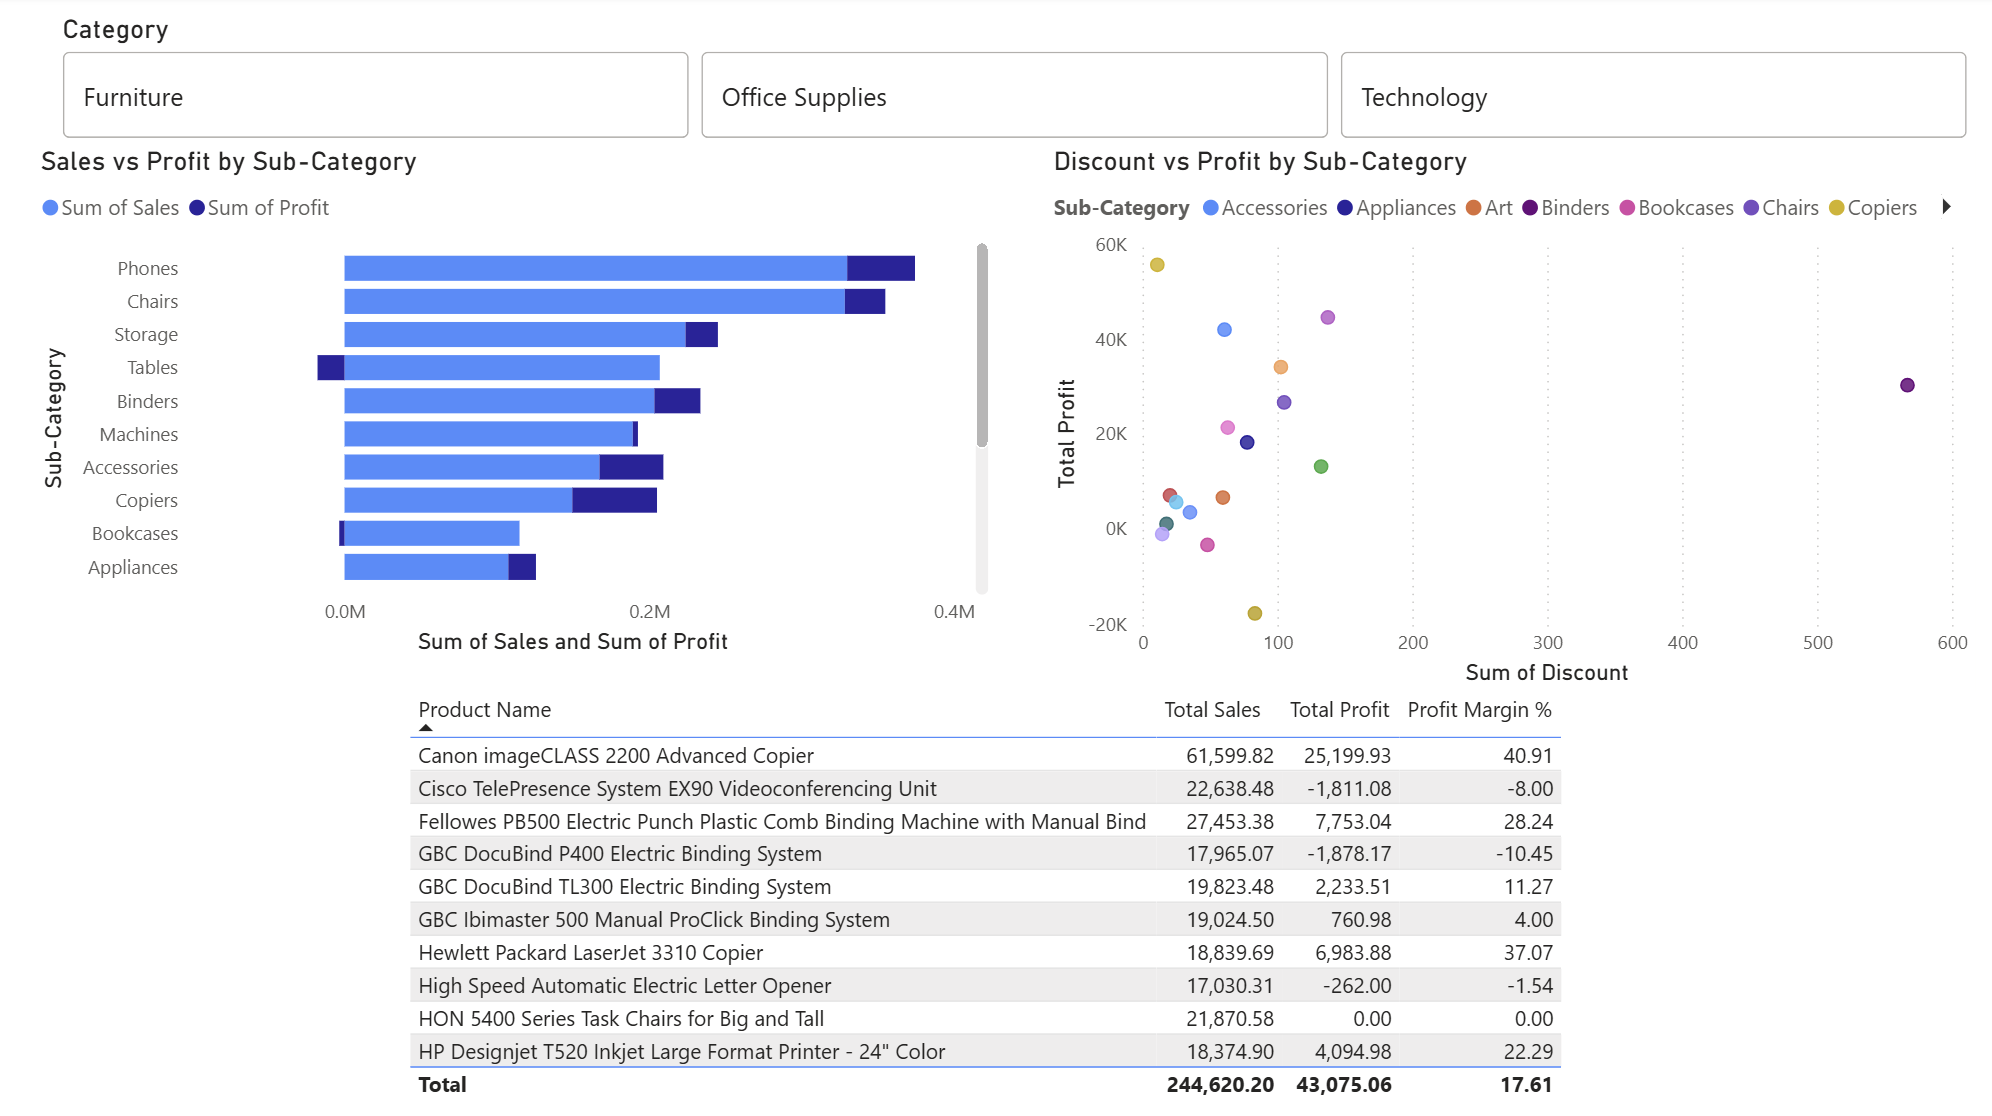

Layout of this report page (visuals, bound fields, positions):
{"tool":"powerbi","page":{"name":"Product & Margin Analysis","canvas":[1280,720],"ordinal":1},"visuals":[{"type":"barChart","title":"Sales vs Profit by Sub-Category","fields":{"Y":["Sum(Orders.Sales)","Sum(Orders.Profit)"],"Category":["Orders.Sub-Category"]},"box":[26,96.5,614,327.7],"z":0},{"type":"scatterChart","title":"Discount vs Profit by Sub-Category","fields":{"X":["Sum(Orders.Discount)"],"Y":["Orders.Total Profit"],"Series":["Orders.Sub-Category"]},"box":[670.6,96.5,592.5,347.6],"z":1000},{"type":"tableEx","fields":{"Values":["Orders.Product Name","Orders.Total Sales","Orders.Total Profit","Orders.Profit Margin %"]},"box":[260.3,439.4,759.4,280.2],"z":2000},{"type":"advancedSlicerVisual","fields":{"Values":["Orders.Category"]},"box":[39.8,12.2,1223.3,84.2],"z":3000}]}

Visuals, with their boxes in screenshot pixels (x1, y1, x2, y2), scaled from the page's 1280x720 canvas onto the 1992x1116 screenshot:
"Sales vs Profit by Sub-Category" barChart: BBox(40, 150, 996, 658)
"Discount vs Profit by Sub-Category" scatterChart: BBox(1044, 150, 1966, 688)
tableEx - Orders.Product Name x Orders.Total Sales: BBox(405, 681, 1587, 1115)
advancedSlicerVisual - Orders.Category: BBox(62, 19, 1966, 149)
